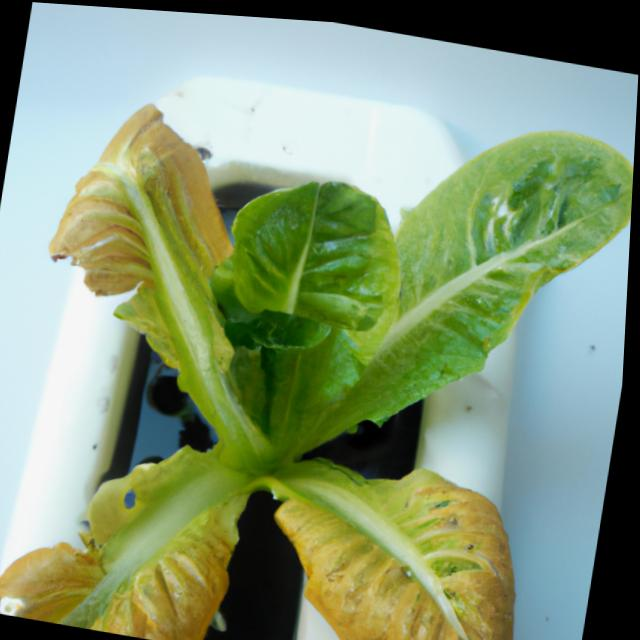-K: (0, 33, 638, 640)
